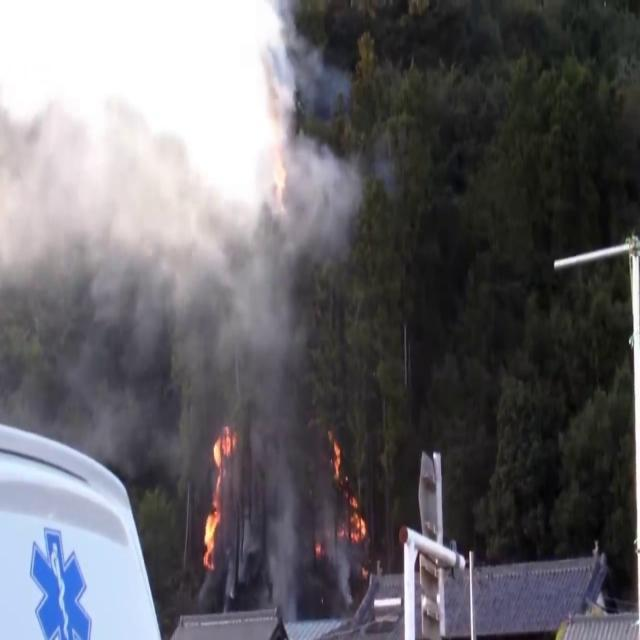Fire: (199, 421, 237, 572)
Smoke: (0, 10, 360, 486)
